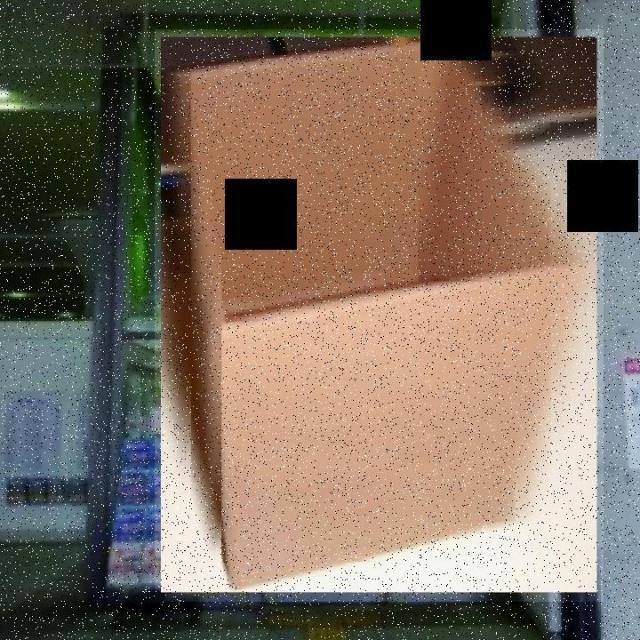box: (154, 29, 604, 602)
